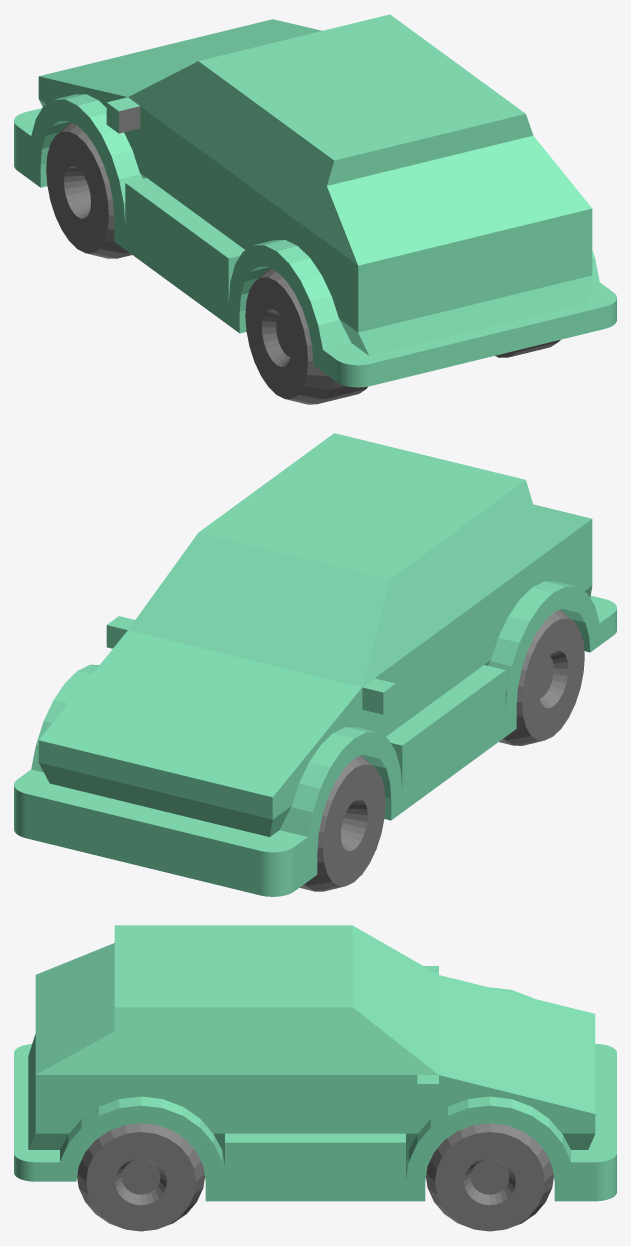
Rendered from hatchbackSports.glb.
The picture shows the model from 3 angles, top to bottom: view 1: azimuth 30°, elevation 25°; view 2: azimuth 150°, elevation 25°; view 3: azimuth 270°, elevation 25°; orthographic projection. The views are drawn at different scales.
Bounding box in the file's own units: 1.3 × 1.1 × 2.8.
